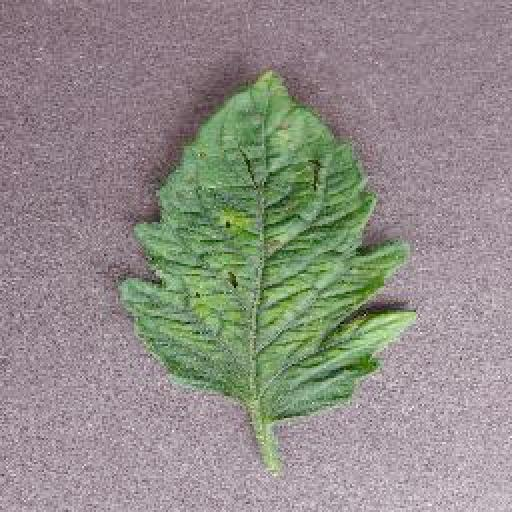disease_tomato: (117, 66, 419, 422)
